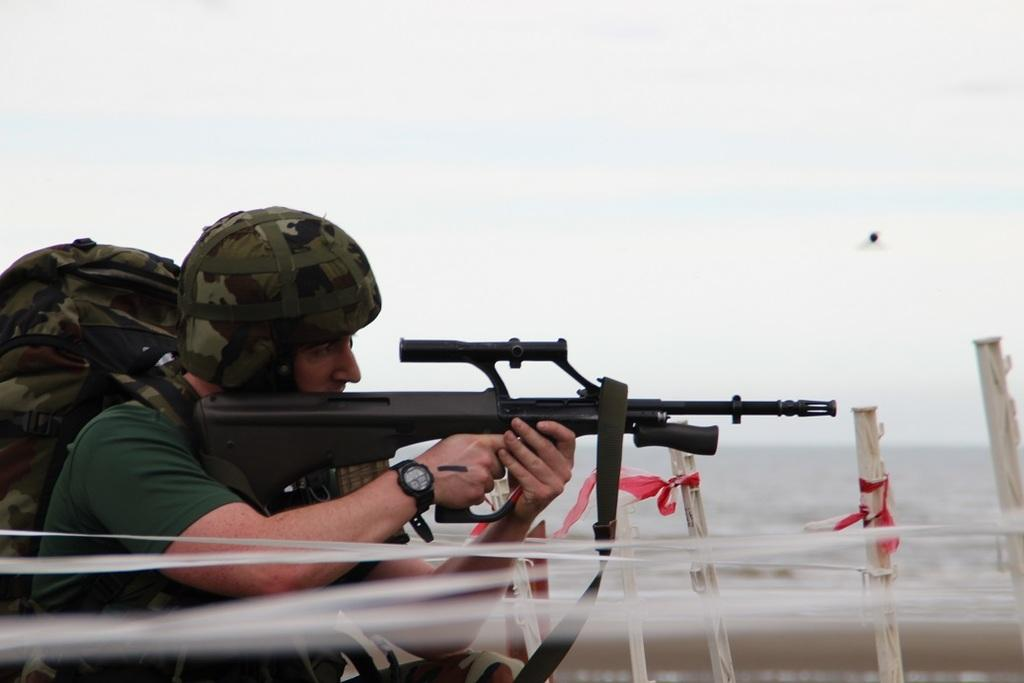Rifle: (192, 341, 831, 515)
